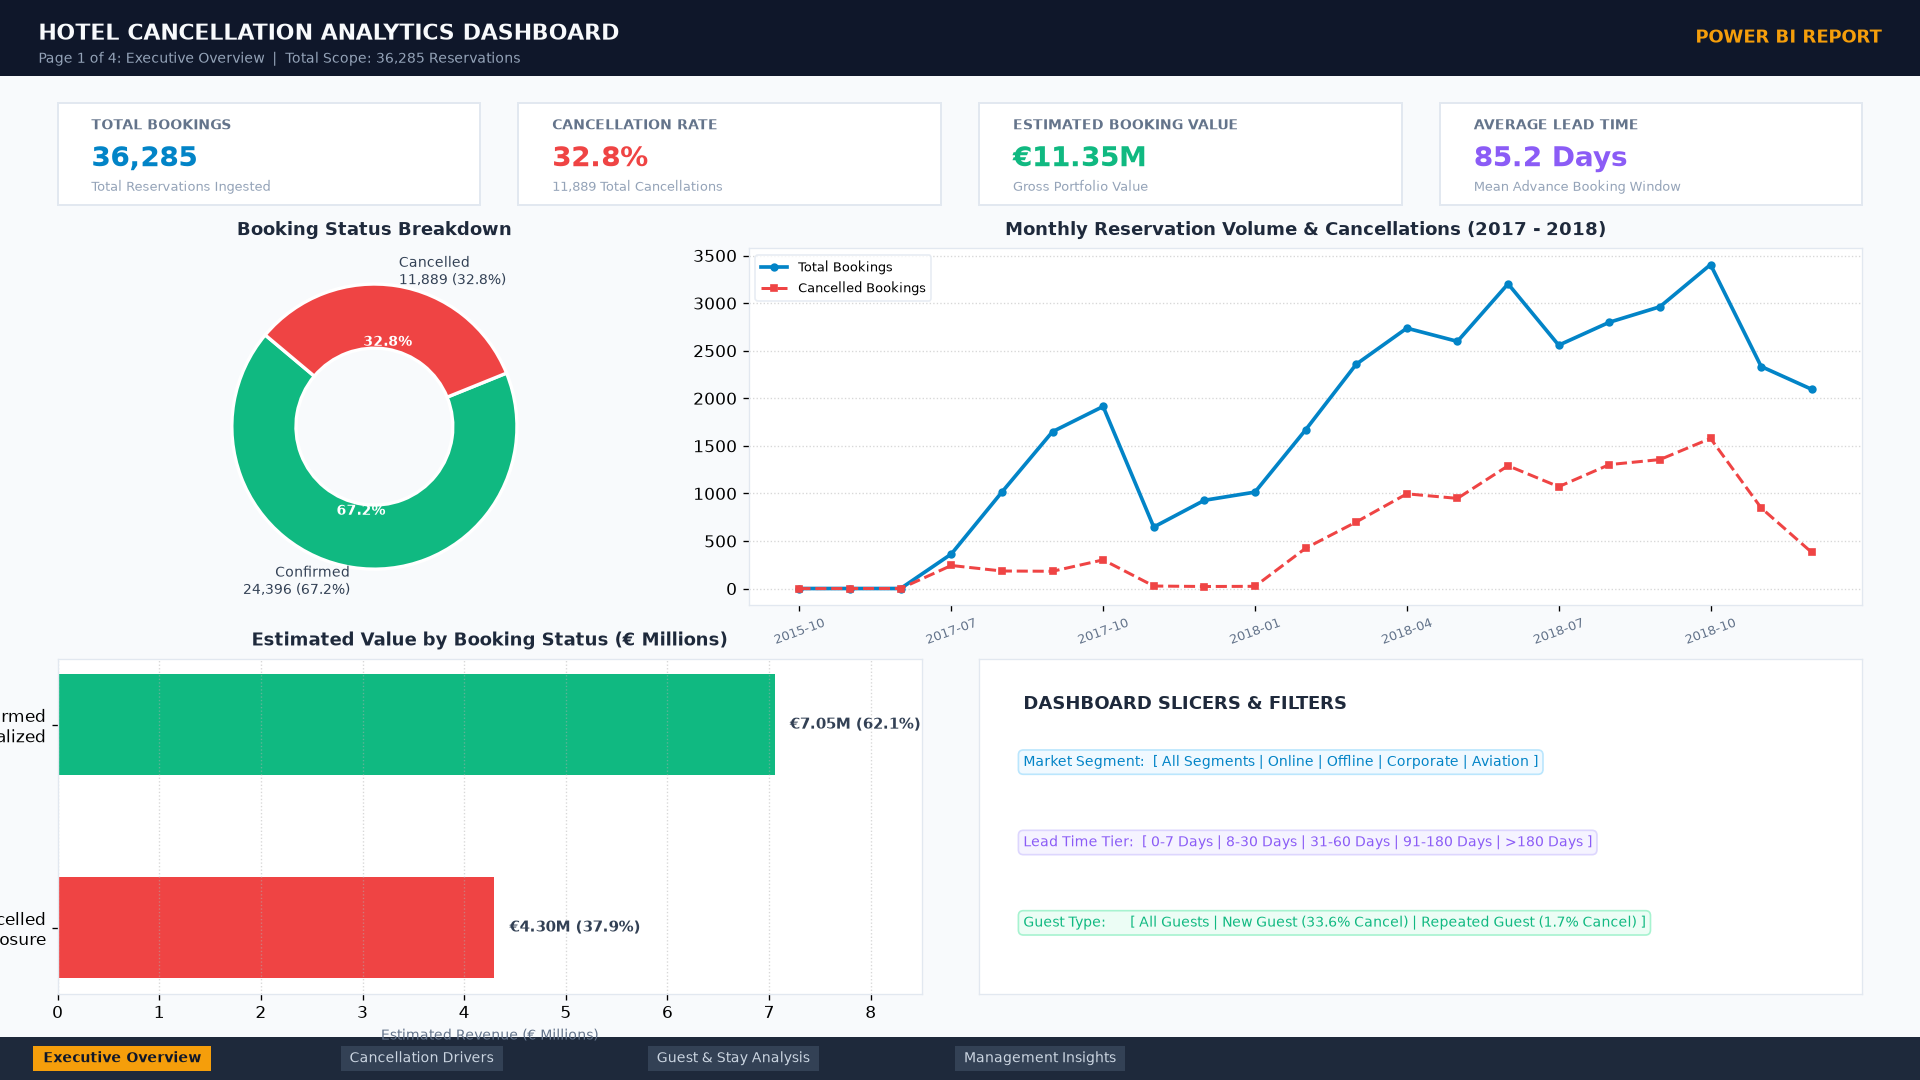

This screenshot's page, from the dashboard's own definition file:
{"tool":"powerbi","page":{"name":"Executive Overview","canvas":[1280,720],"ordinal":0},"visuals":[{"type":"card","fields":{"Values":["_Measures.Total Bookings"]},"box":[10,55,197,117],"z":0},{"type":"card","fields":{"Values":["_Measures.Cancellation Rate"]},"box":[271,55,199,117],"z":1000},{"type":"card","fields":{"Values":["_Measures.Estimated Booking Value"]},"box":[513,55,228,117],"z":2000},{"type":"card","fields":{"Values":["_Measures.Average Lead Time"]},"box":[801,55,224,117],"z":3000},{"type":"donutChart","fields":{"Category":["booking.Booking Status"],"Y":["_Measures.Total Bookings"]},"box":[0,172,470,306],"z":4000},{"type":"lineChart","title":"Monthly Booking Trend (2015–2018)","fields":{"Y":["_Measures.Total Bookings"],"Category":["booking.Reservation Month.Variation.Date Hierarchy.Year","booking.Reservation Month.Variation.Date Hierarchy.Month"]},"box":[10.2,485.8,1258.8,233.7],"z":5000},{"type":"barChart","fields":{"Category":["booking.Booking Status"],"Y":["_Measures.Estimated Booking Value"]},"box":[477,172,548,314],"z":6000},{"type":"slicer","fields":{"Values":["booking.Market Segment Type"]},"box":[1039,10.2,230,174.5],"z":7000},{"type":"slicer","fields":{"Values":["booking.Lead Time Group"]},"box":[1039,184.7,230,206.9],"z":8000},{"type":"slicer","fields":{"Values":["booking.Guest Type"]},"box":[1039,391.6,230,86.8],"z":9000},{"type":"textbox","box":[10.2,0,317.7,55.4],"z":10000}]}

Visuals, with their boxes in screenshot pixels (x1, y1, x2, y2), scaled from the page's 1280x720 canvas onto the 1920x1080 screenshot:
card - _Measures.Total Bookings: {"left": 15, "top": 82, "right": 310, "bottom": 258}
card - _Measures.Cancellation Rate: {"left": 406, "top": 82, "right": 705, "bottom": 258}
card - _Measures.Estimated Booking Value: {"left": 770, "top": 82, "right": 1112, "bottom": 258}
card - _Measures.Average Lead Time: {"left": 1202, "top": 82, "right": 1538, "bottom": 258}
donutChart - booking.Booking Status x _Measures.Total Bookings: {"left": 0, "top": 258, "right": 705, "bottom": 717}
"Monthly Booking Trend (2015–2018)" lineChart: {"left": 15, "top": 729, "right": 1904, "bottom": 1079}
barChart - booking.Booking Status x _Measures.Estimated Booking Value: {"left": 716, "top": 258, "right": 1538, "bottom": 729}
slicer - booking.Market Segment Type: {"left": 1558, "top": 15, "right": 1904, "bottom": 277}
slicer - booking.Lead Time Group: {"left": 1558, "top": 277, "right": 1904, "bottom": 587}
slicer - booking.Guest Type: {"left": 1558, "top": 587, "right": 1904, "bottom": 718}
textbox: {"left": 15, "top": 0, "right": 492, "bottom": 83}
